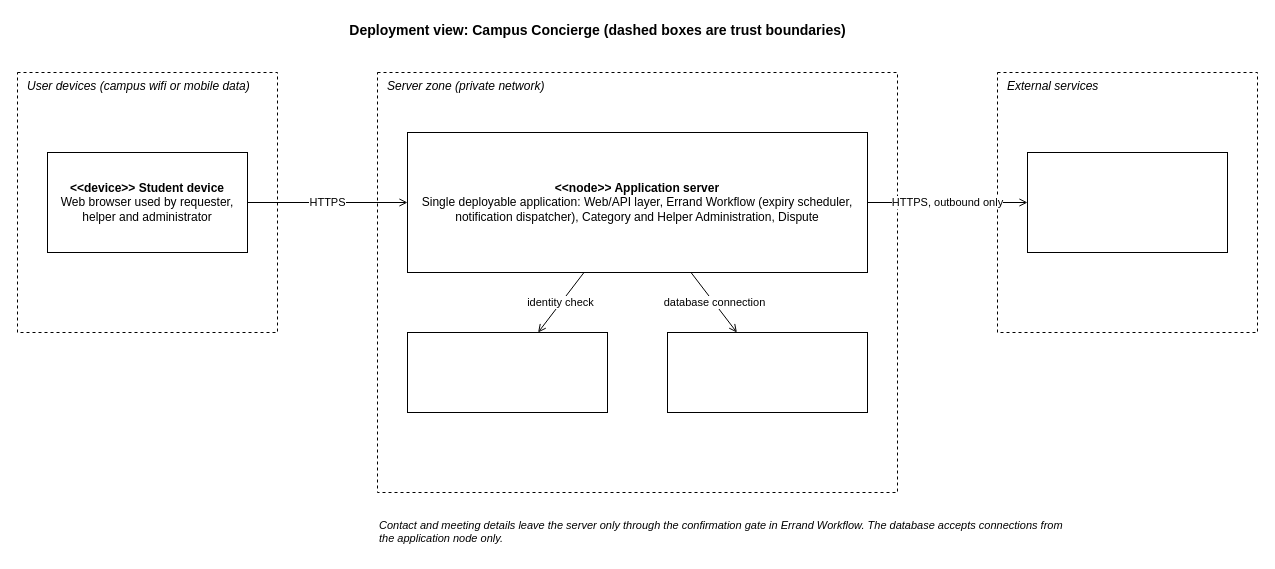
This 1275x569 diagram has some shape labels left out. The centre of each missing label's shape, as x and y in pixels:
"<<node>> Database server Relational database" belongs at pixel 767 372.
"Identity Service (mock) seeded test accounts" belongs at pixel 507 372.
"Notification Service sends status, offer and dispute notifications" belongs at pixel 1127 202.
